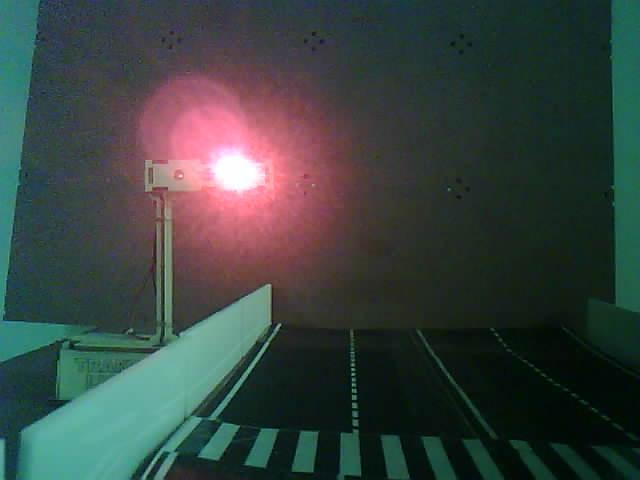crosswalk: (142, 390, 640, 480)
red: (92, 100, 331, 377)
